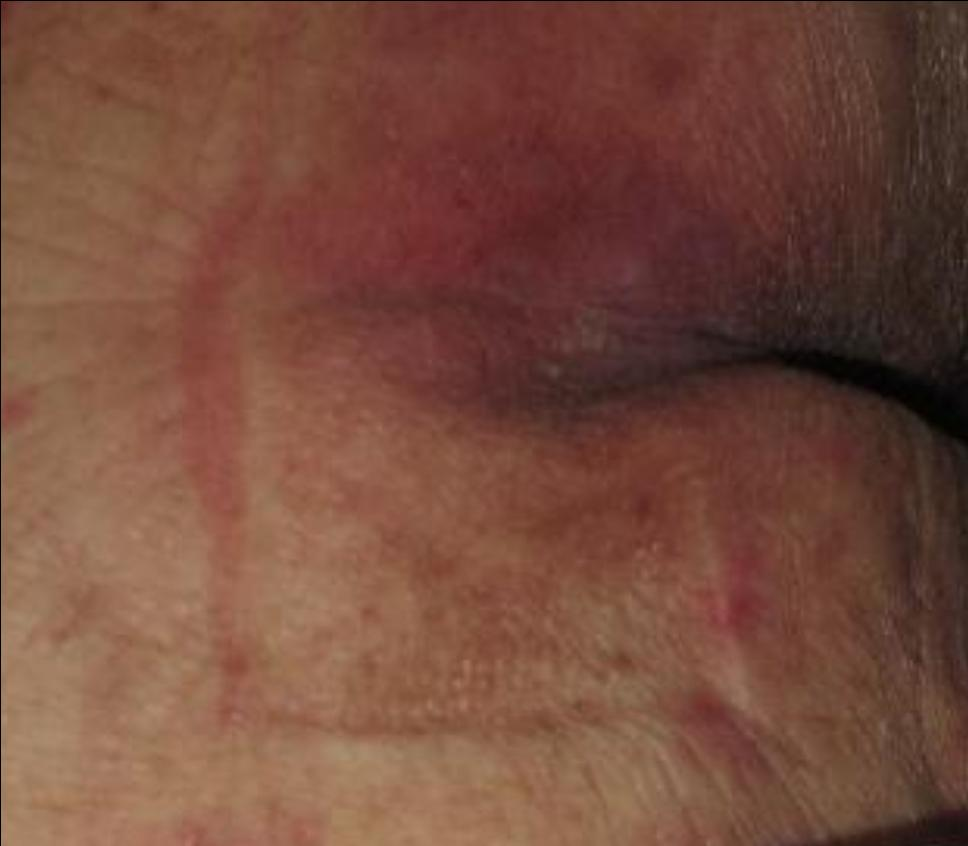Stage1: (157, 0, 968, 786)
